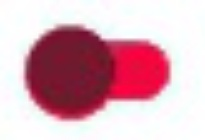Switch: (1, 1, 204, 139)
